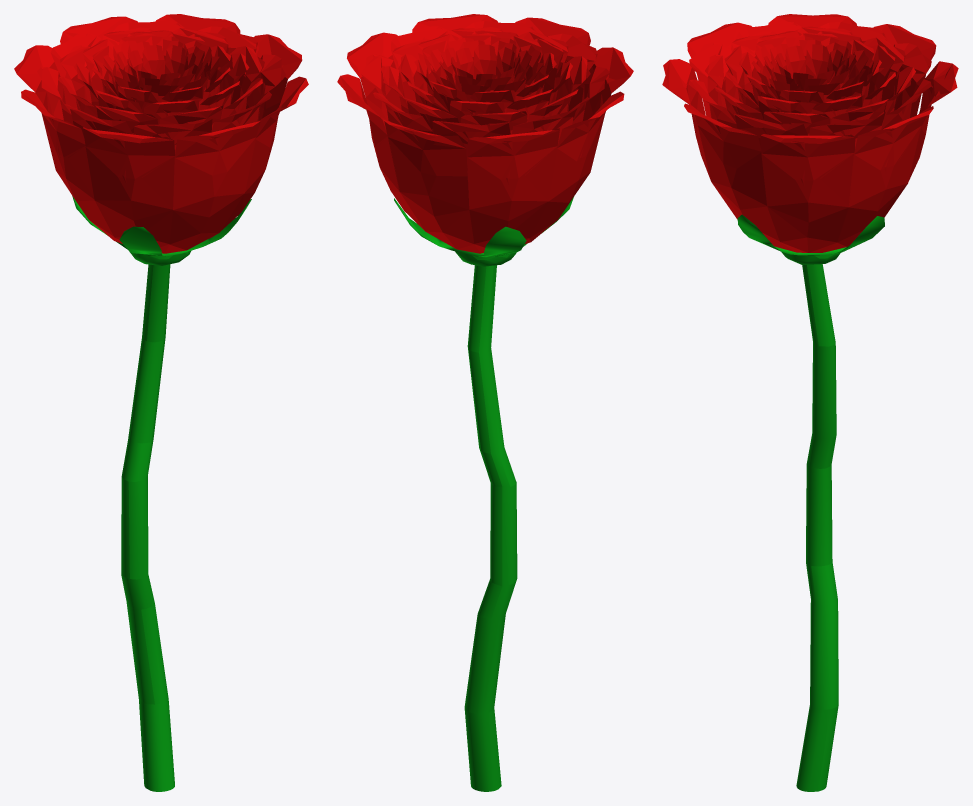
File: Rose.fbx
3 views of the same model, side by side, from view 1: azimuth 30°, elevation 25°; view 2: azimuth 150°, elevation 25°; view 3: azimuth 270°, elevation 25° (orthographic).
Visible parts, largest first — view 1: Rose.001, Rose; view 2: Rose.001, Rose; view 3: Rose.001, Rose.
Boxes of the visible parts, <box> form: Rose.001: <box>14,14,308,253</box>; Rose: <box>72,196,251,791</box>; Rose.001: <box>337,14,633,253</box>; Rose: <box>394,197,573,791</box>; Rose.001: <box>662,14,958,252</box>; Rose: <box>737,214,884,791</box>.
Size of the model in its own units: 170 by 461 by 170.
